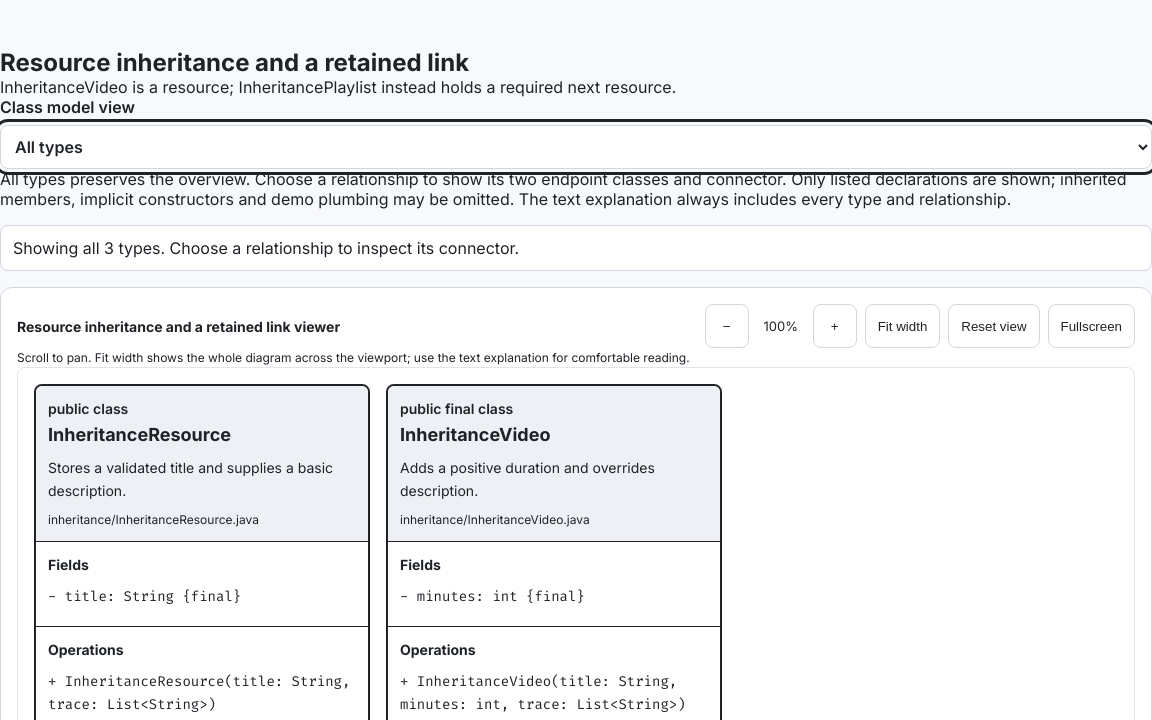
Test: Curated relationship connectors › Generalization selects actual endpoint compartments with the correct connector ends
Select "Generalization: InheritanceVideo / InheritanceResource" in the dropdown labelled "Class model view": x=576, y=147 [0, 125, 1151, 169]
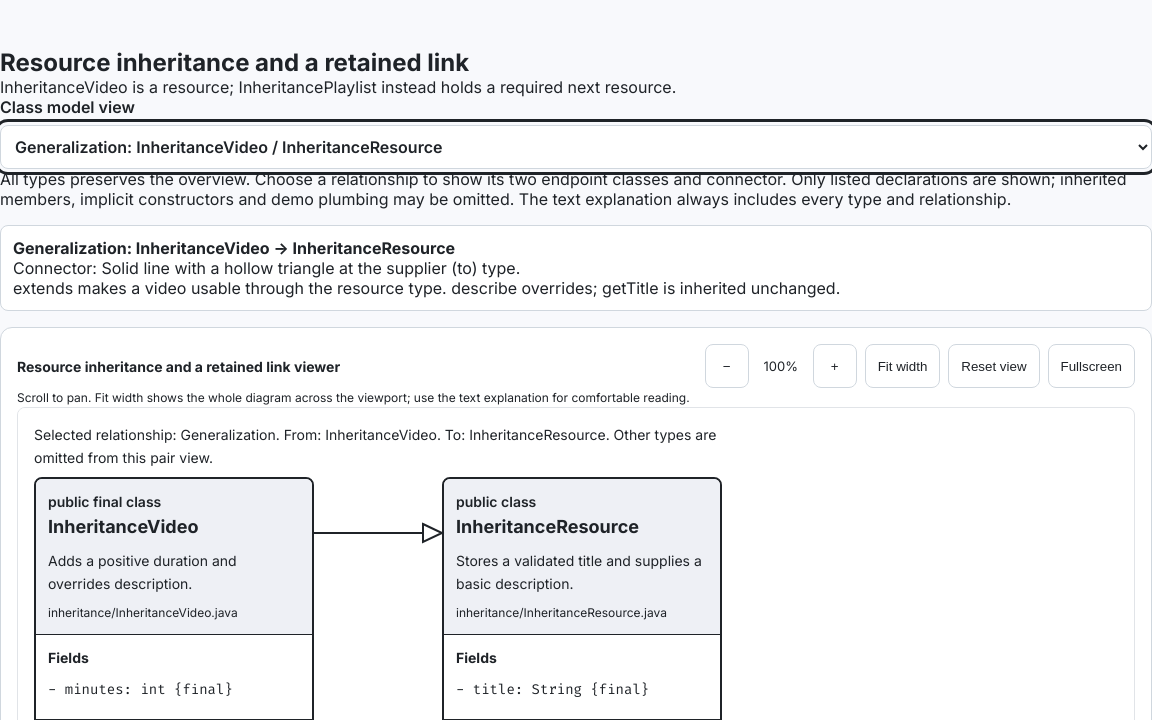
Expected: the element with class "lesson-class-model-type" shows "- minutes: int {final}", [48, 680, 233, 698]
Result: the element with class "lesson-class-model-selection" shows "extends makes a video usable through the resource type. describe overrides; getTitle is inherited unchanged." at [13, 278, 840, 298]
Select "All types" in the dropdown labelled "Class model view": x=576, y=147 [0, 125, 1151, 169]
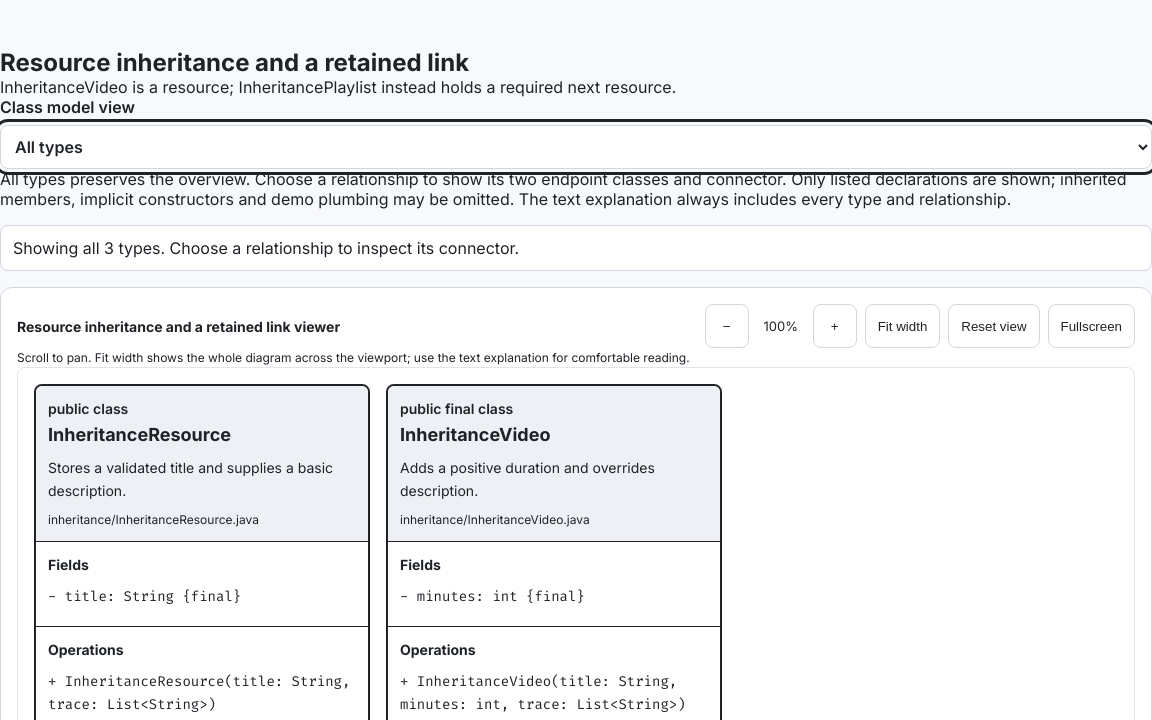
Result: the number of elements with class "lesson-class-model-type" is 3
Result: the icon is gone
